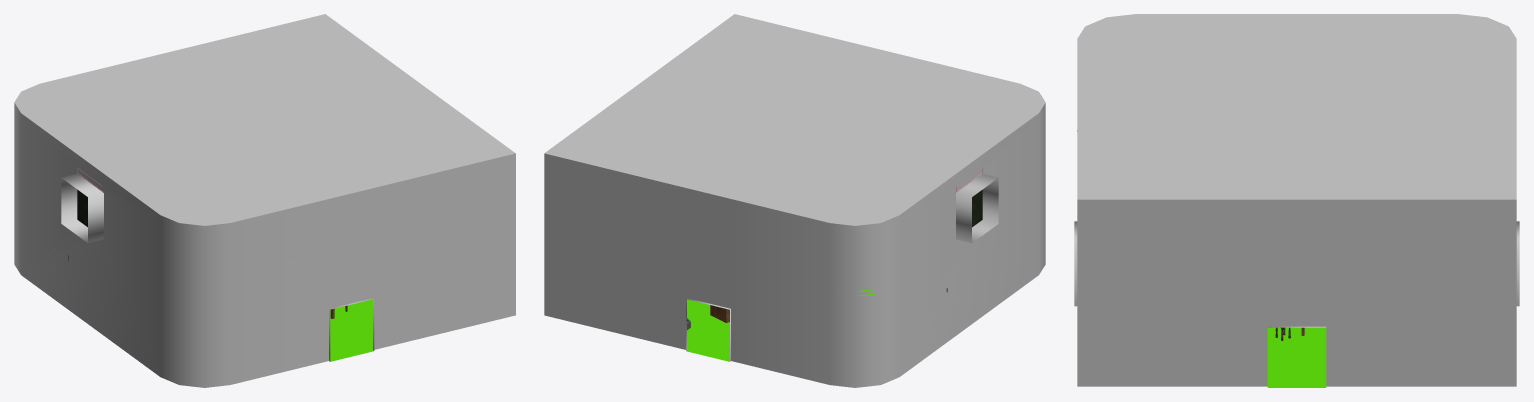
File: roomsB3.fbx
3 renders of one model, left to right at view 1: azimuth 30°, elevation 25°; view 2: azimuth 150°, elevation 25°; view 3: azimuth 270°, elevation 25°, orthographic. The views are drawn at different scales.
Visible parts, largest first — view 1: Plane.009, Plane.010, Plane.001; view 2: Plane.009, Plane.010, Plane.001; view 3: Plane.010, Plane.009, Plane.001.
Boxes of the visible parts, bbox=[...] form: Plane.009: bbox=[14, 103, 515, 387]; Plane.010: bbox=[14, 14, 515, 225]; Plane.001: bbox=[330, 299, 373, 361]; Plane.009: bbox=[544, 103, 1045, 387]; Plane.010: bbox=[544, 14, 1045, 225]; Plane.001: bbox=[686, 299, 729, 361]; Plane.010: bbox=[1077, 14, 1516, 199]; Plane.009: bbox=[1074, 199, 1519, 386]; Plane.001: bbox=[1267, 327, 1326, 387].
Bounding box in the file's own units: 1584 × 706 × 1520.
